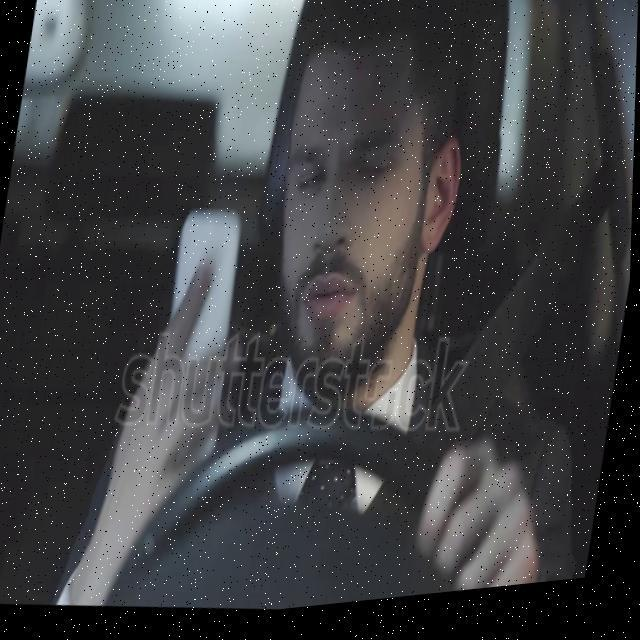PhoneCall: (146, 202, 254, 468)
